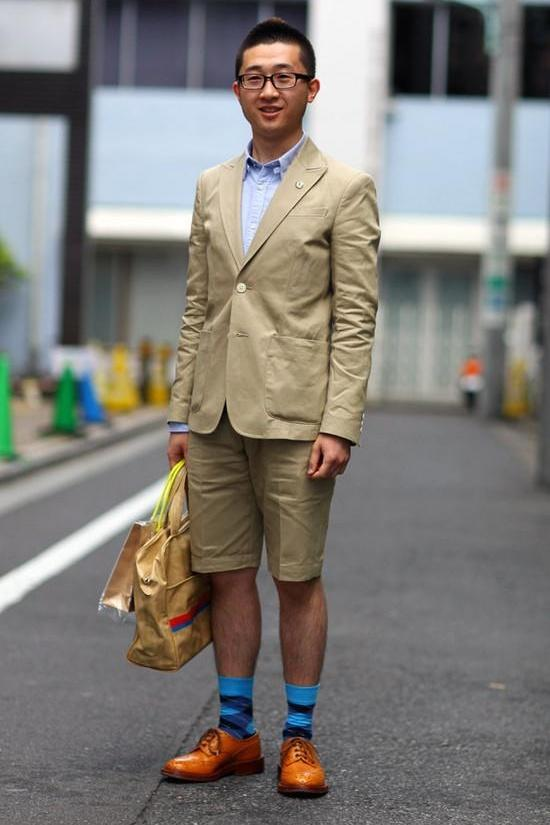short: (182, 398, 336, 581)
sweater: (166, 131, 380, 446)
